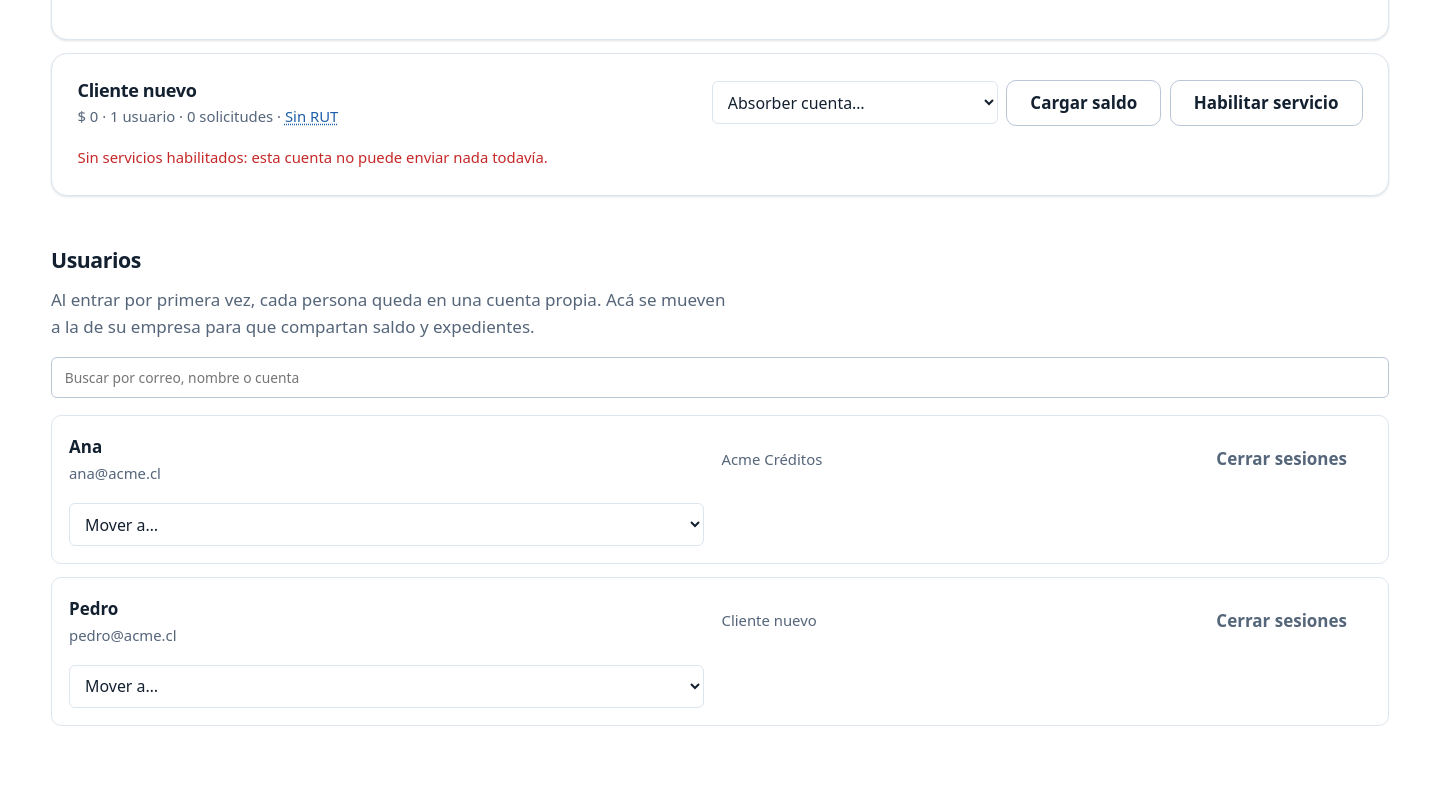
Test case: AdminComponent › cierra las sesiones de un usuario y lo confirma en pantalla
(page scrolled)
Click the 1st button with class "btn--ghost" at x=1282, y=460, box [1192,436,1371,483]
(page scrolled)
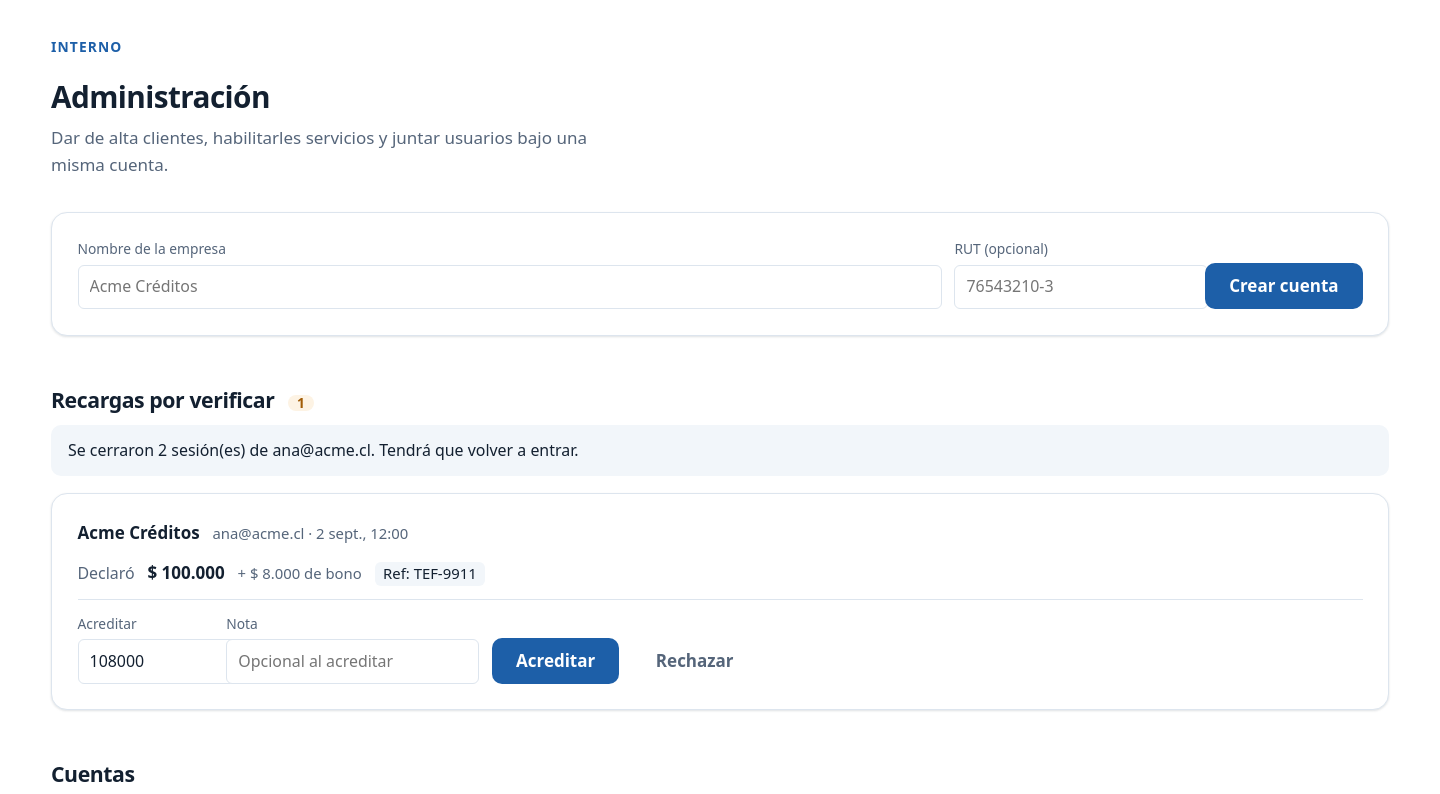
Expected: the message with class "admin__aviso" shows "volver a entrar", [68,438,578,460]
